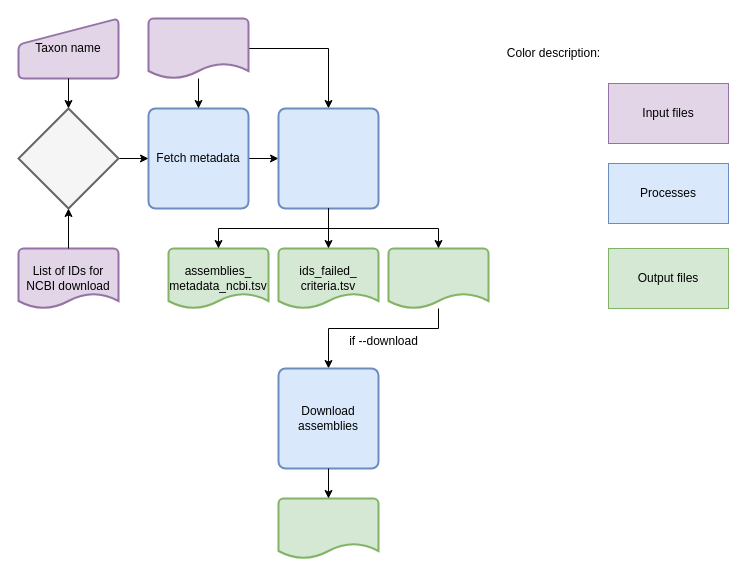
The diagram is 746 pixels wide and 576 high, and some of its shapes have lost their labels. Here are the shapes that lost their labels. From the top down, the centre of each, then its label:
At pixel 198 48: "Criteria table".
At pixel 68 158: "OR".
At pixel 328 158: "Filter metadata".
At pixel 438 278: "assemblies_ids_to_ download.tsv".
At pixel 328 528: "assemblies_ncbi.zip".
